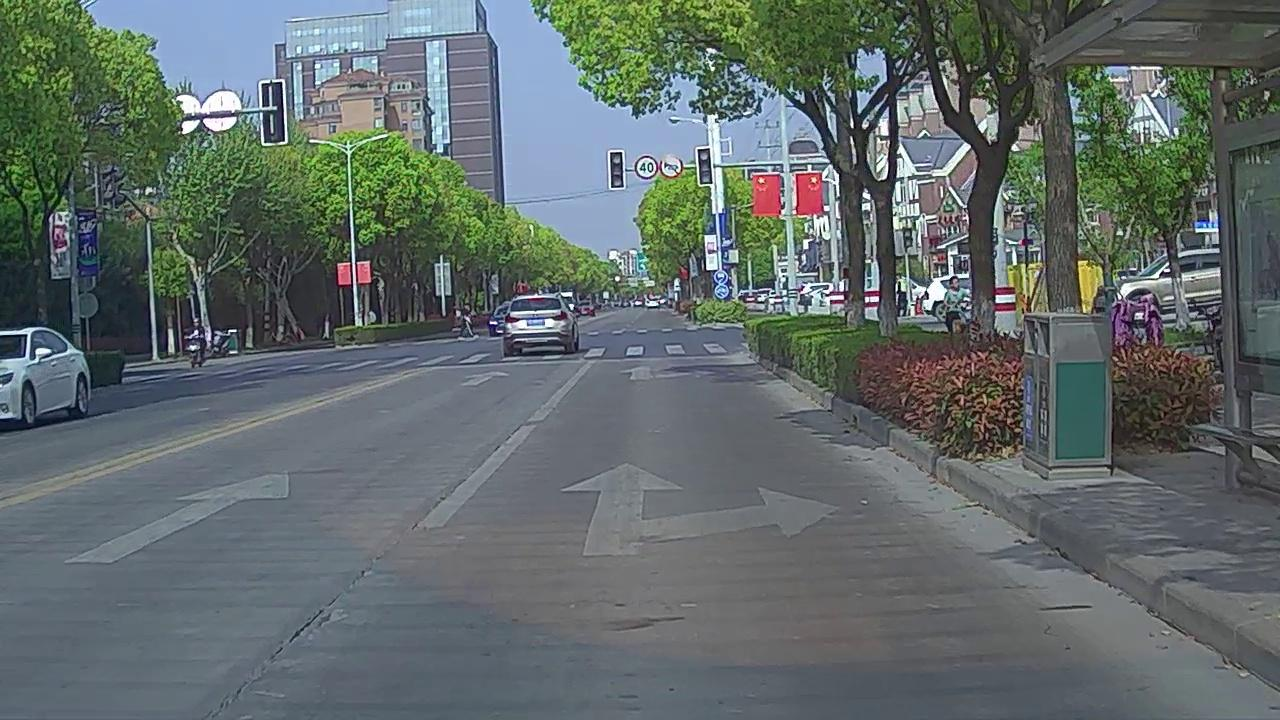traffic_light: (609, 150, 626, 188), (698, 148, 713, 183)
